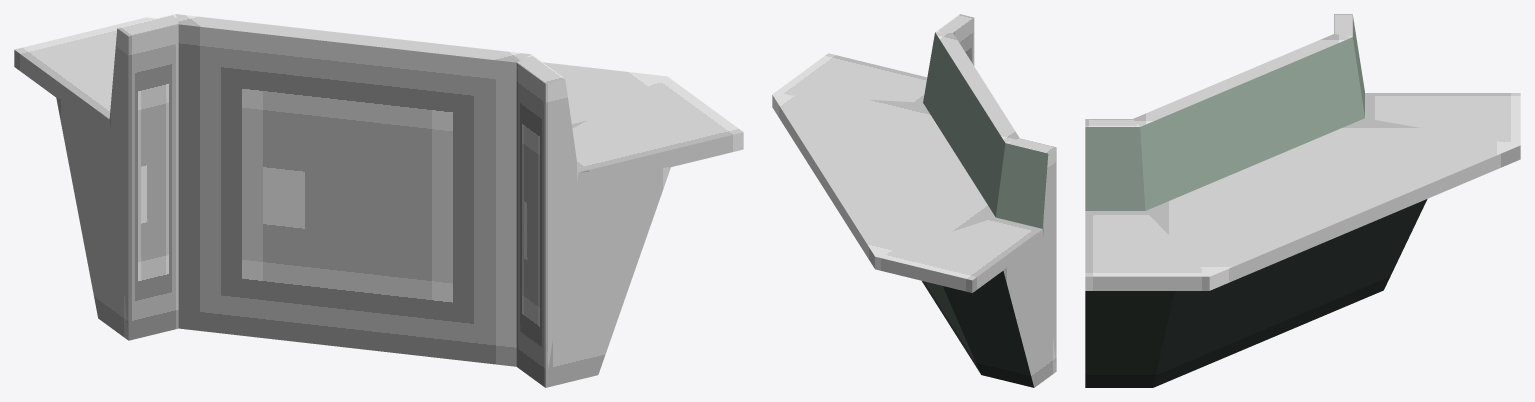
File: desk_corner_outside_item.obj
The picture shows the model from 3 angles, left to right: view 1: azimuth 30°, elevation 25°; view 2: azimuth 150°, elevation 25°; view 3: azimuth 270°, elevation 25°; orthographic projection. The views are drawn at different scales.
Bounding box in the file's own units: 1.75 × 1.1 × 1.75.
